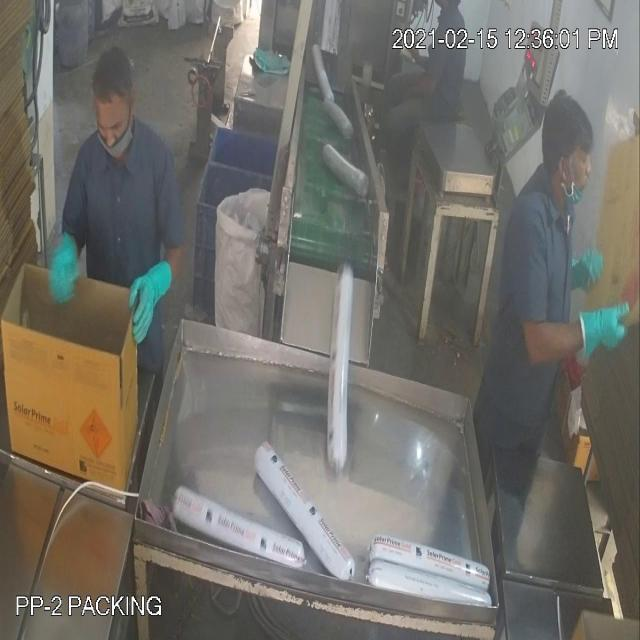gloves: (124, 241, 182, 351), (566, 296, 631, 375), (42, 233, 94, 315)
